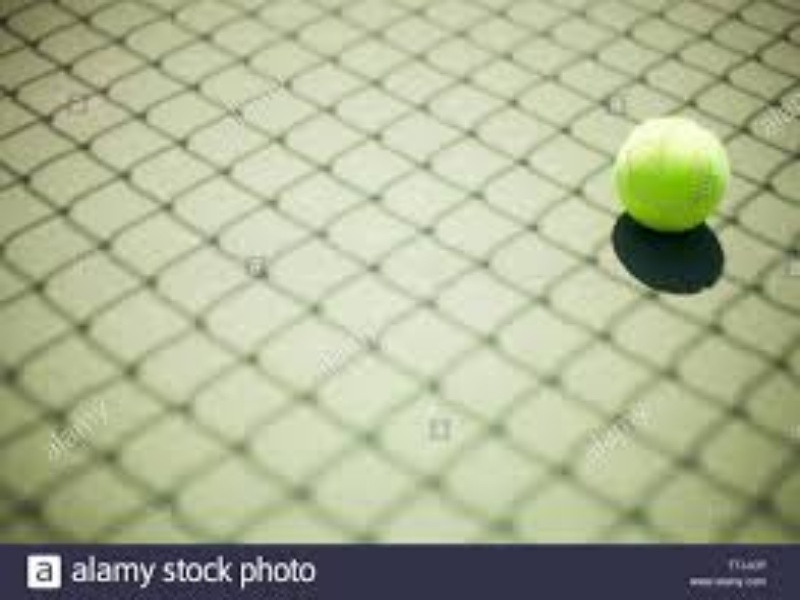tennis ball: (607, 109, 742, 262)
